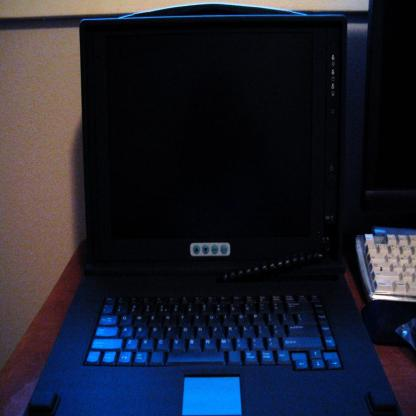board: (36, 0, 378, 412)
